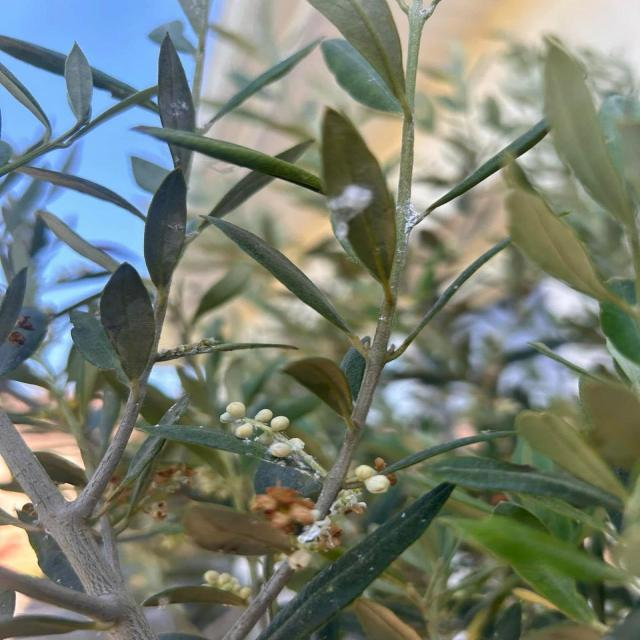Psyllid: (220, 402, 327, 482), (281, 488, 366, 571), (327, 182, 374, 252), (396, 200, 437, 240)
